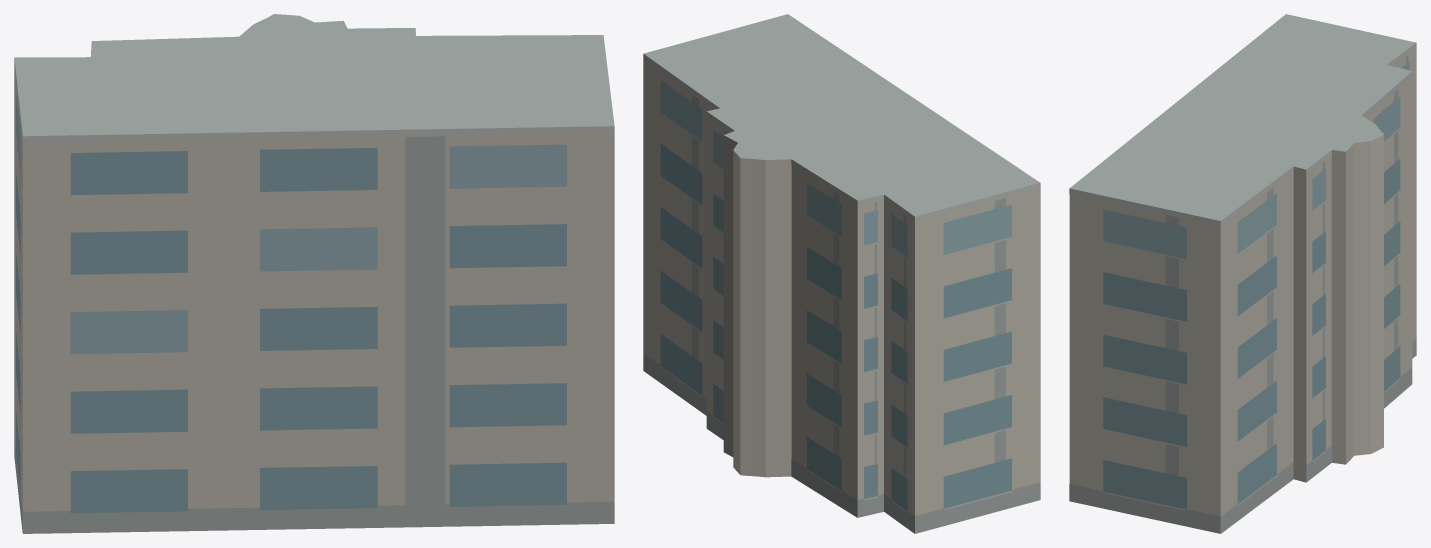
Rendered from survey-upis-32728704.glb.
3 views of the same model, side by side, from view 1: azimuth 30°, elevation 25°; view 2: azimuth 150°, elevation 25°; view 3: azimuth 270°, elevation 25° (orthographic). The views are drawn at different scales.
Visible parts, largest first — view 1: survey-upis-32728704.tmp; view 2: survey-upis-32728704.tmp; view 3: survey-upis-32728704.tmp.
Part boxes in pixels (bbox=[...]): survey-upis-32728704.tmp: bbox=[14, 14, 614, 533]; survey-upis-32728704.tmp: bbox=[643, 14, 1040, 533]; survey-upis-32728704.tmp: bbox=[1069, 14, 1416, 533].
Bounding box in the file's own units: 18.74 × 13.2 × 13.28.
